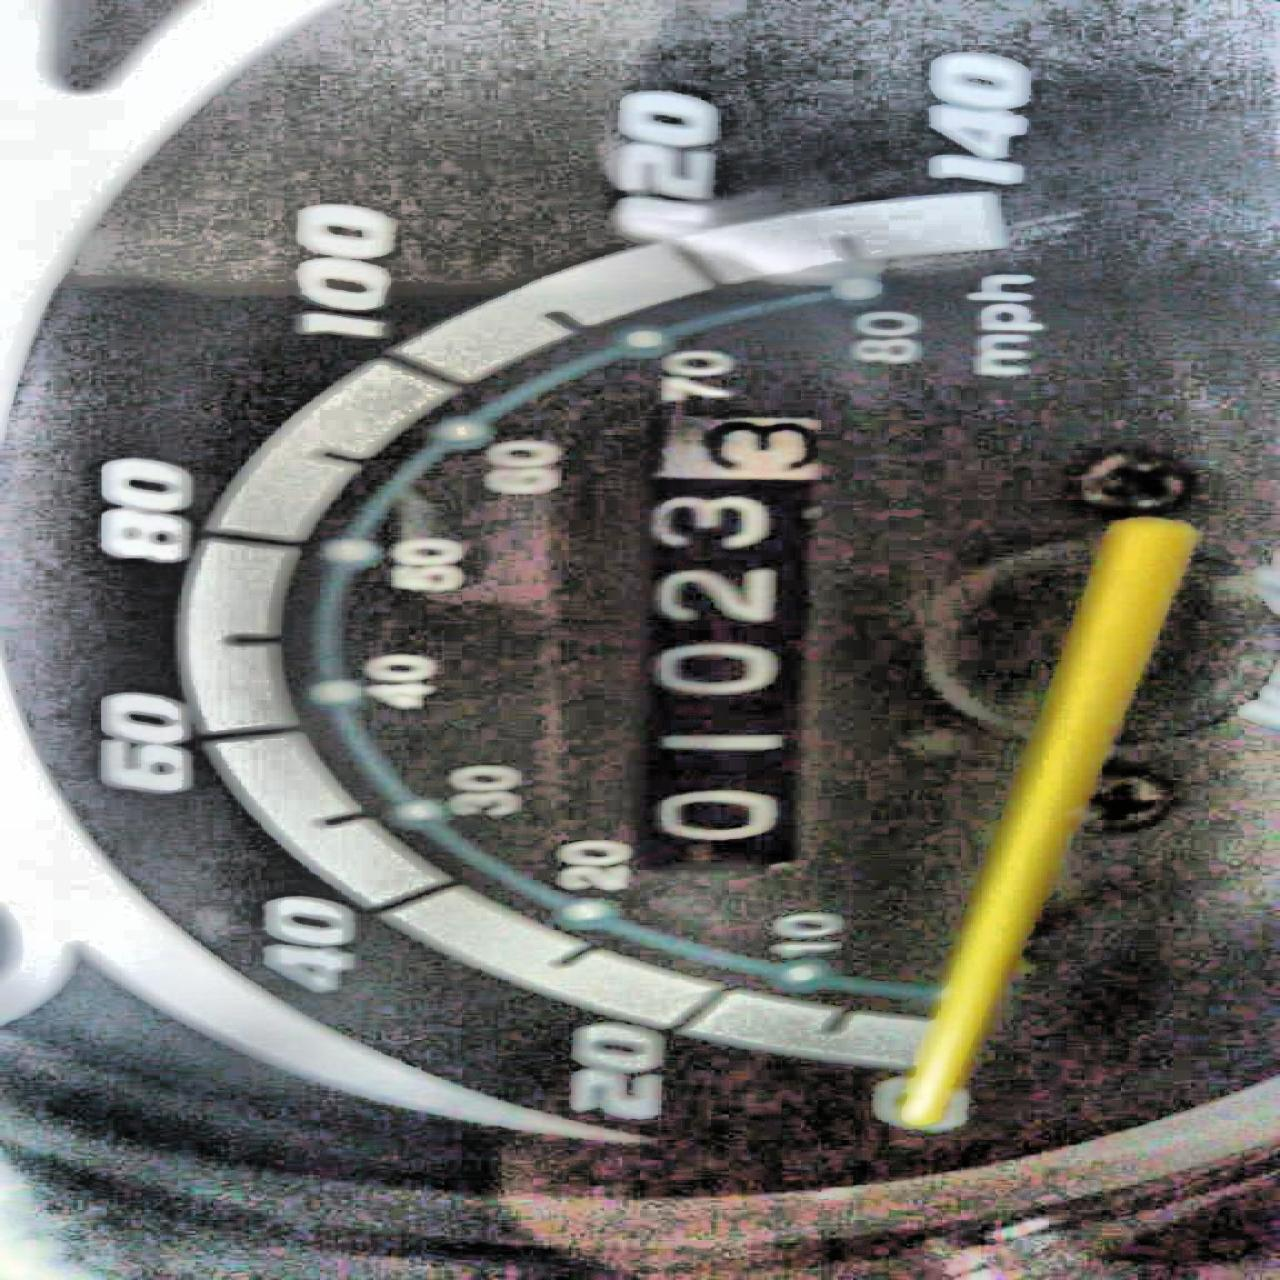0: (654, 635, 796, 699), (654, 782, 794, 844)
1: (647, 720, 811, 761)
2: (647, 561, 787, 621)
3: (687, 414, 831, 476), (649, 492, 779, 547)
odometer: (627, 403, 840, 869)
